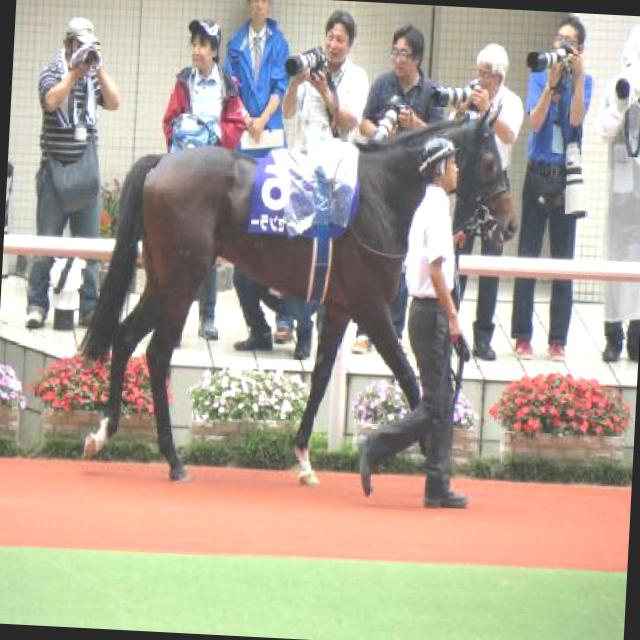Person: (355, 130, 488, 509), (150, 17, 252, 341), (24, 15, 125, 336), (508, 15, 598, 364), (583, 20, 640, 362), (278, 6, 374, 152), (443, 40, 528, 196), (219, 0, 295, 161), (356, 20, 451, 143)
